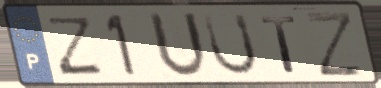1: (103, 12, 141, 78)
T: (258, 13, 300, 75)
U: (146, 10, 210, 81), (201, 11, 261, 78)
Z: (303, 9, 366, 79), (47, 15, 105, 77)
